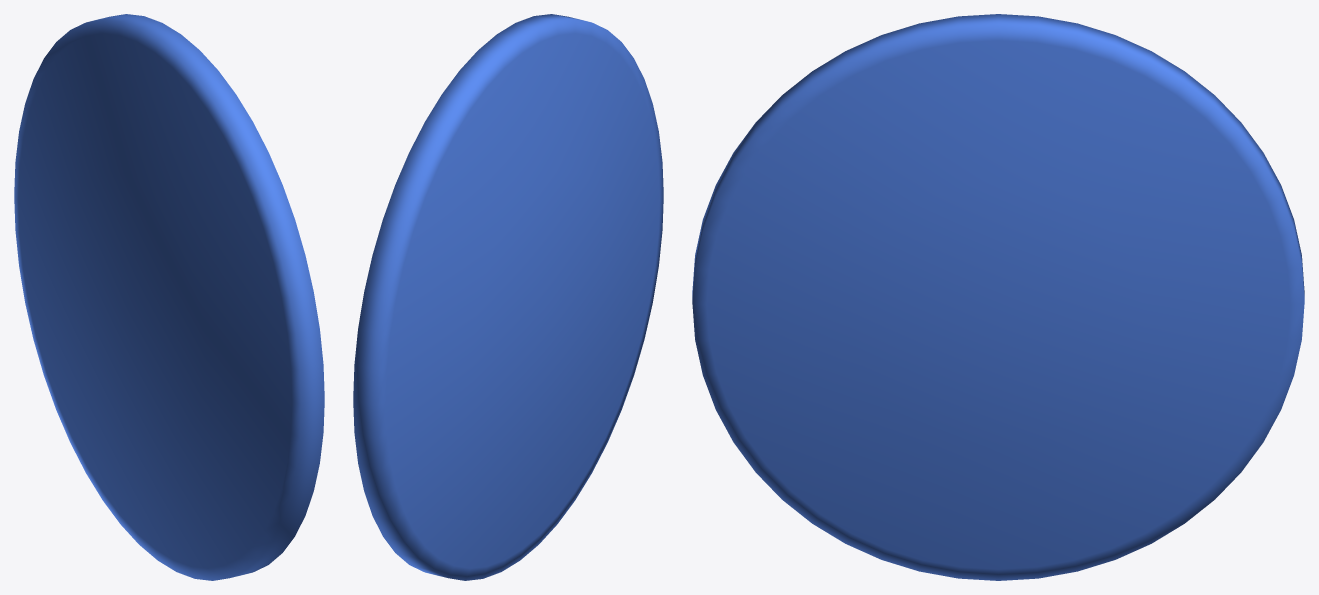
The model's file is lens.glb.
The picture shows the model from 3 angles, left to right: view 1: azimuth 30°, elevation 25°; view 2: azimuth 150°, elevation 25°; view 3: azimuth 270°, elevation 25°; orthographic projection. The views are drawn at different scales.
Parts seen in each view (by area): view 1: lens; view 2: lens; view 3: lens.
Part boxes in pixels (<box>): lens: <box>14,14,324,580</box>; lens: <box>353,14,663,580</box>; lens: <box>692,14,1304,580</box>.
Size of the model in its own units: 2 by 12.7 by 12.7.
